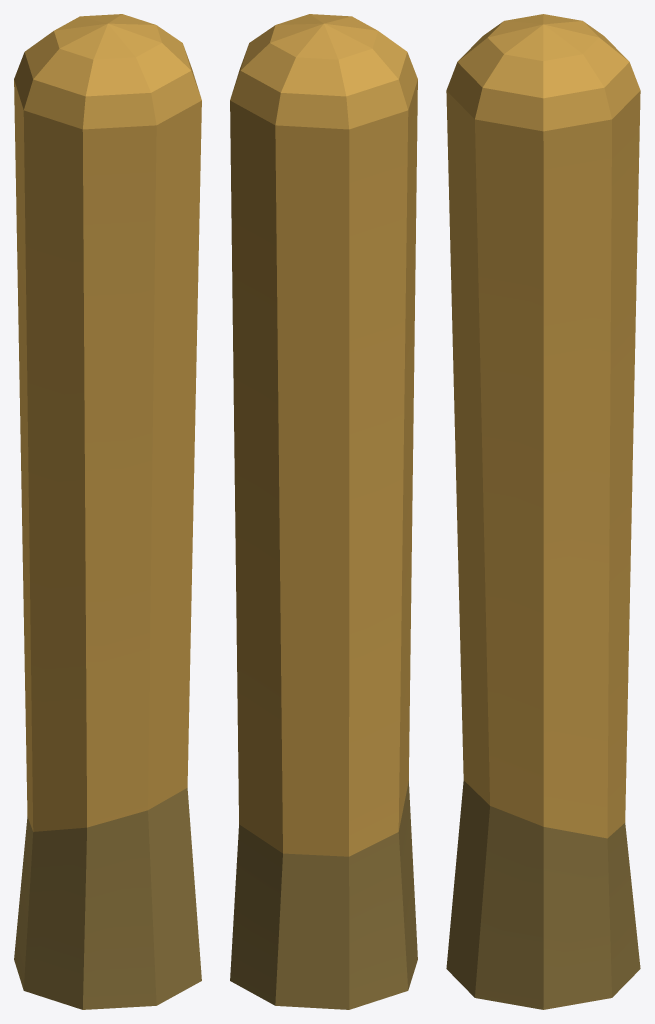
The model's file is SM_Prop_SidewalkPoles_02.obj.
The picture shows the model from 3 angles, left to right: view 1: azimuth 30°, elevation 25°; view 2: azimuth 150°, elevation 25°; view 3: azimuth 270°, elevation 25°; orthographic projection.
Parts seen in each view (by area): view 1: SM_Prop_SidewalkPoles_02_0; view 2: SM_Prop_SidewalkPoles_02_0; view 3: SM_Prop_SidewalkPoles_02_0.
Part boxes in pixels (bbox=[...]): SM_Prop_SidewalkPoles_02_0: bbox=[14, 14, 201, 1009]; SM_Prop_SidewalkPoles_02_0: bbox=[230, 14, 417, 1009]; SM_Prop_SidewalkPoles_02_0: bbox=[446, 14, 640, 1009].
Size of the model in its own units: 0.2093 by 1.12 by 0.2093.
Materials: 1 (1 with a texture image).
